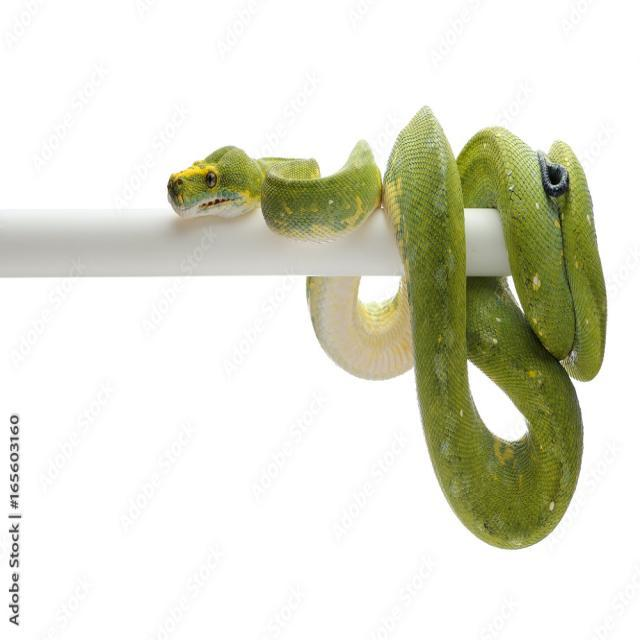Snake: (156, 91, 614, 559)
